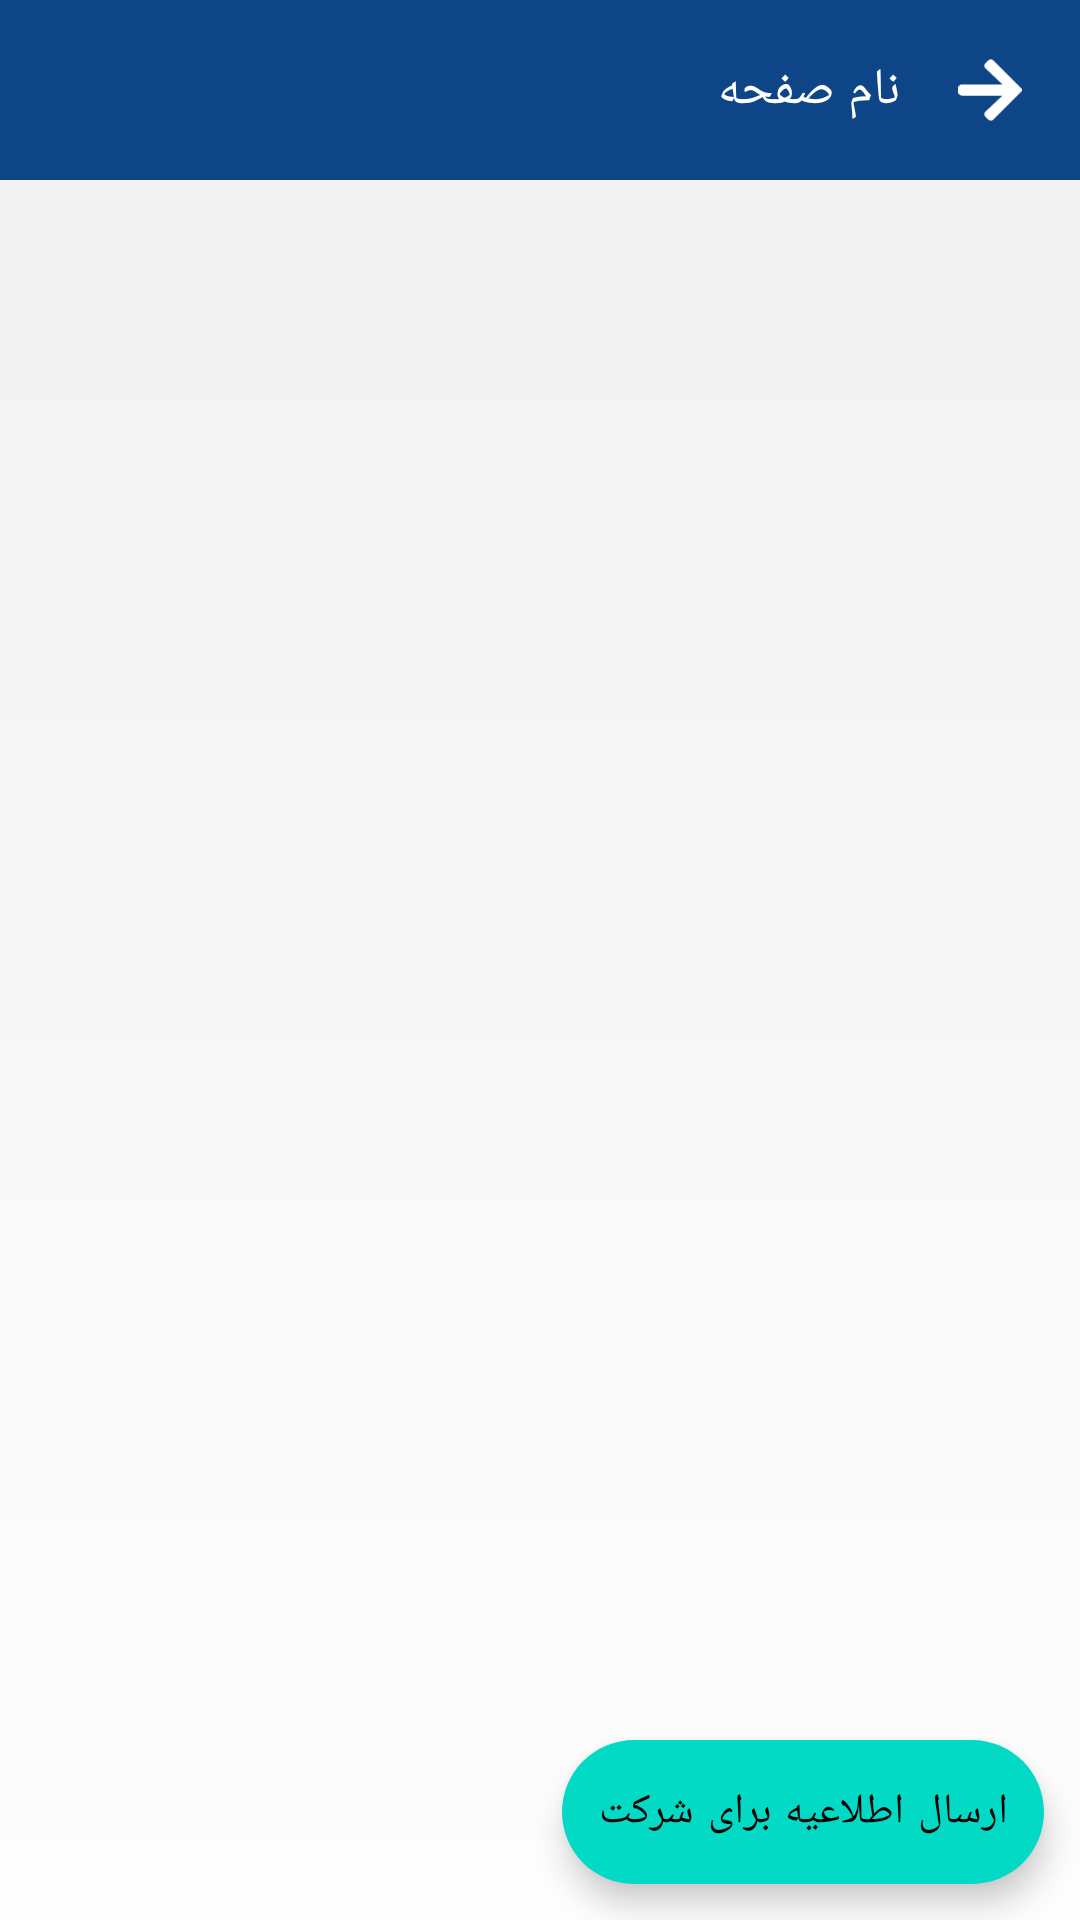

Screen size 1080×1920. Icon name, then its center in pixels as (x,y):
arrow right: (990,90)
